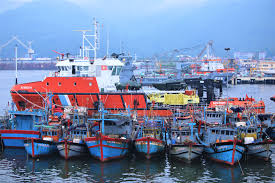tau_dansu: (8, 106, 52, 163), (204, 107, 245, 168), (92, 103, 131, 164), (169, 112, 203, 165), (136, 107, 168, 162), (60, 104, 89, 160)
